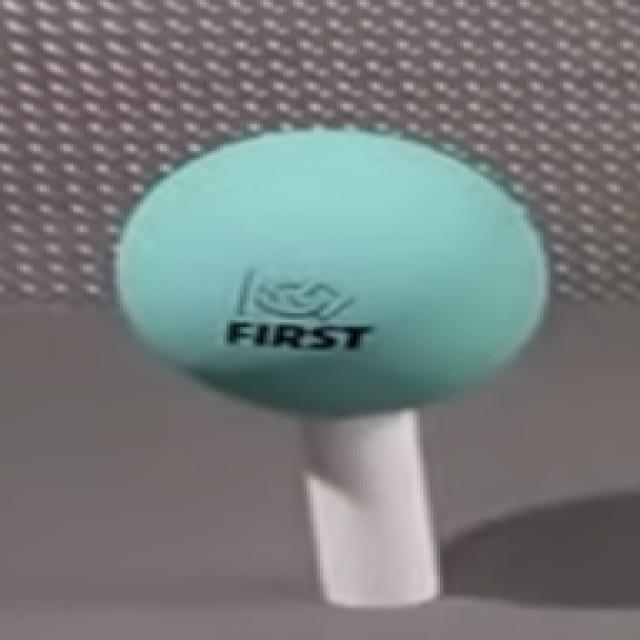Algae: (114, 130, 550, 414)
Coral: (300, 407, 444, 610)
